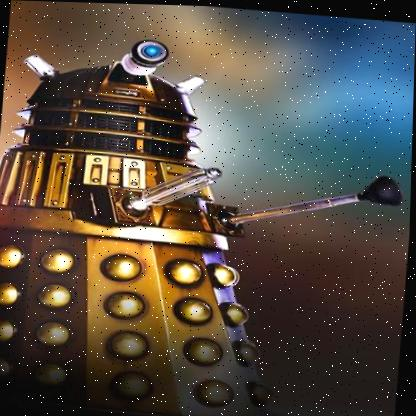dalek: (0, 1, 416, 416)
